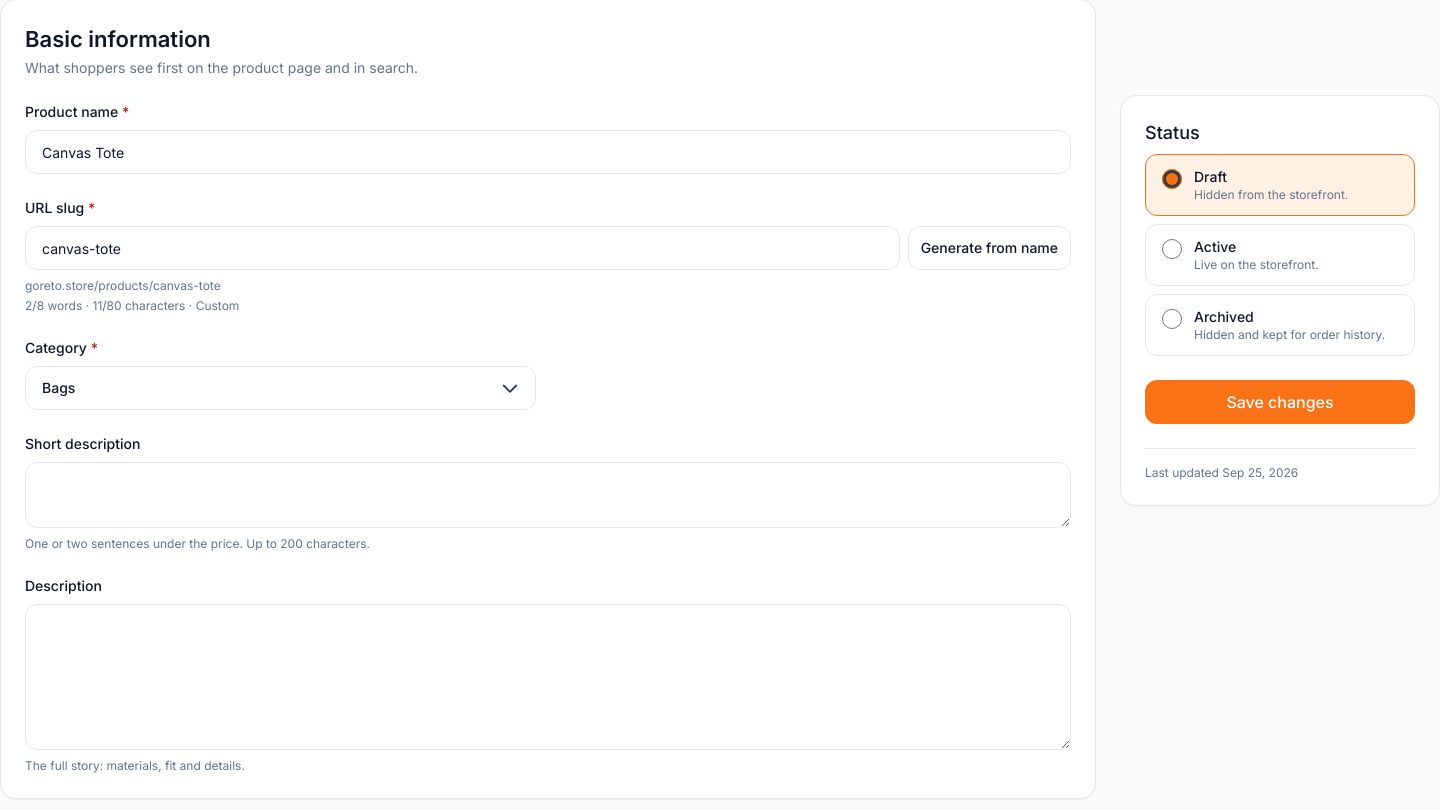
ProductForm › shows server errors on the matching field
Click the button "Save changes" at (1280, 402), box [1145,380,1415,424]
(page scrolled)
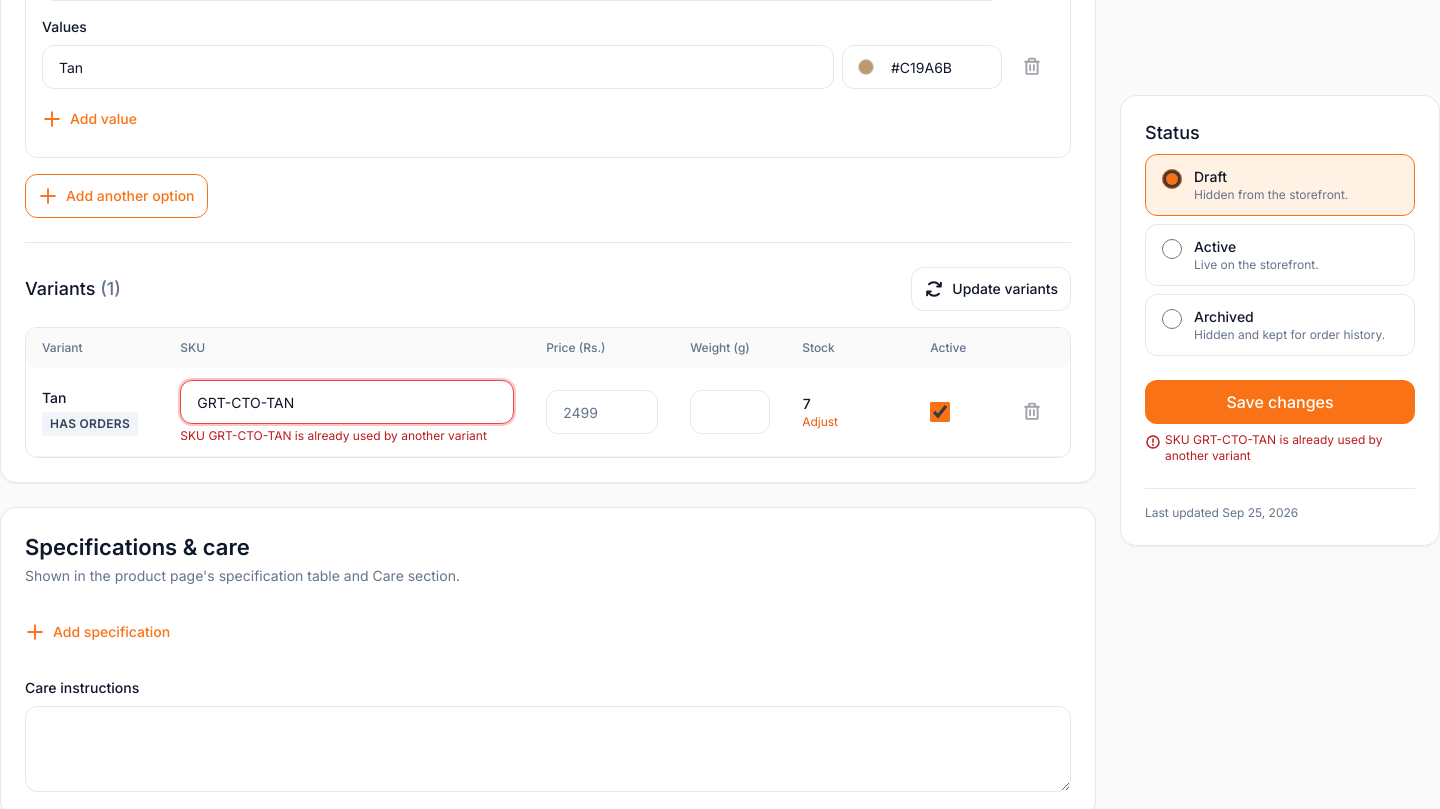
Result: the text "SKU GRT-CTO-TAN is already used by another variant" is shown at [180,428,514,444]
